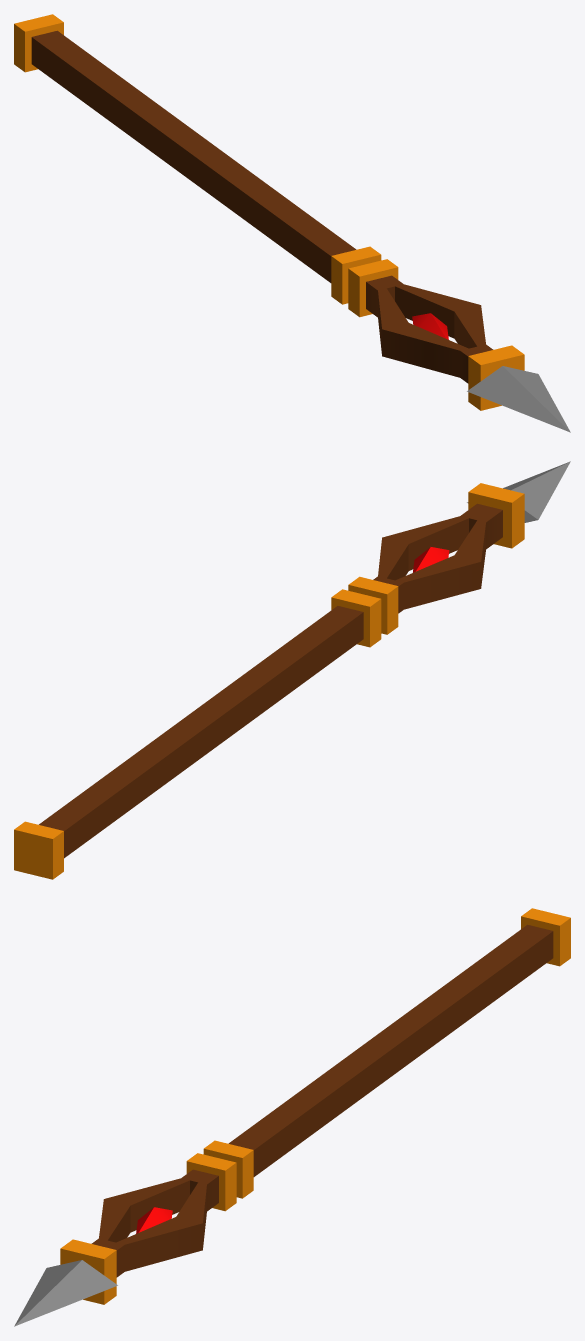
File: Spear 01.FBX
The picture shows the model from 3 angles, top to bottom: view 1: azimuth 30°, elevation 25°; view 2: azimuth 150°, elevation 25°; view 3: azimuth 330°, elevation 25°; orthographic projection.
Visible parts, largest first — view 1: Spear 01; view 2: Spear 01; view 3: Spear 01.
Part boxes in pixels (x1,y1,x2,y2): Spear 01: (14,14,570,432); Spear 01: (14,461,570,879); Spear 01: (14,908,570,1326).
Bounding box in the file's own units: 18 × 7.94 × 169.
